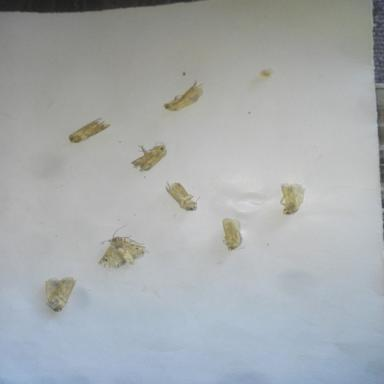abw: (160, 78, 210, 116), (36, 274, 78, 315), (64, 114, 114, 145), (161, 179, 205, 213), (273, 178, 310, 218), (128, 140, 171, 174), (215, 214, 249, 255)
